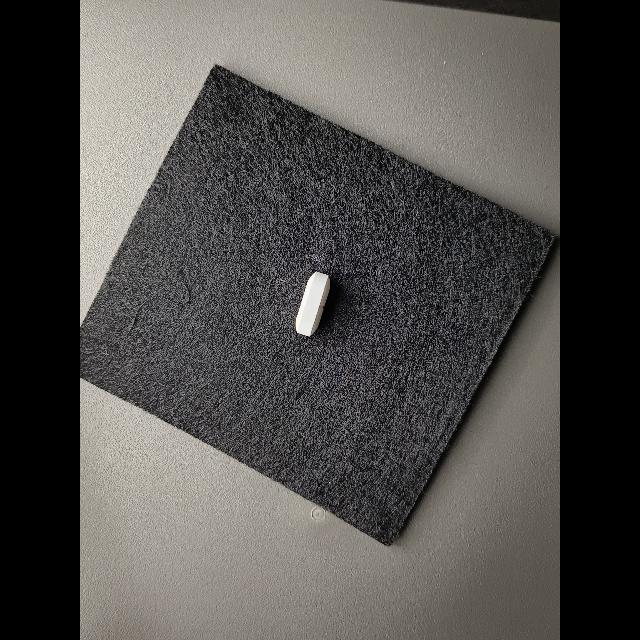Intact Pill: (295, 271, 330, 337)
